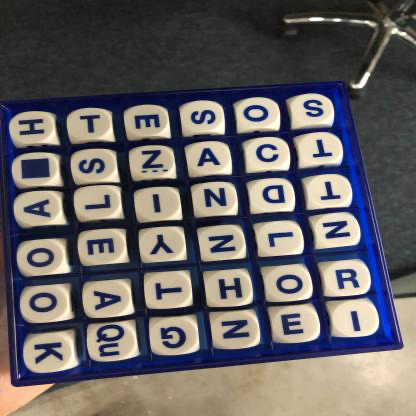a: (83, 281, 132, 317), (187, 142, 232, 174), (16, 194, 60, 226)
c: (246, 139, 289, 169)
d: (252, 180, 295, 211)
e: (272, 306, 318, 343), (80, 230, 126, 263), (125, 105, 169, 136)
g: (150, 318, 199, 355)
h: (205, 272, 253, 308), (10, 111, 56, 144)
i: (332, 302, 380, 339), (137, 187, 182, 221)
k: (26, 337, 74, 373)
l: (258, 222, 304, 255), (76, 187, 120, 219)
n: (211, 312, 260, 350), (198, 227, 245, 260), (315, 214, 361, 246), (193, 184, 238, 215)
o: (22, 287, 69, 323), (267, 267, 313, 302), (20, 242, 64, 274), (238, 97, 281, 129)
qu: (88, 324, 136, 362)
r: (325, 262, 371, 297)
s: (71, 149, 118, 183), (291, 93, 336, 125), (181, 100, 224, 132)
t: (145, 274, 193, 309), (68, 107, 114, 140), (308, 176, 352, 207), (300, 134, 342, 163)
wild: (12, 152, 62, 186)
y: (142, 227, 186, 261)
z: (131, 146, 175, 179)
